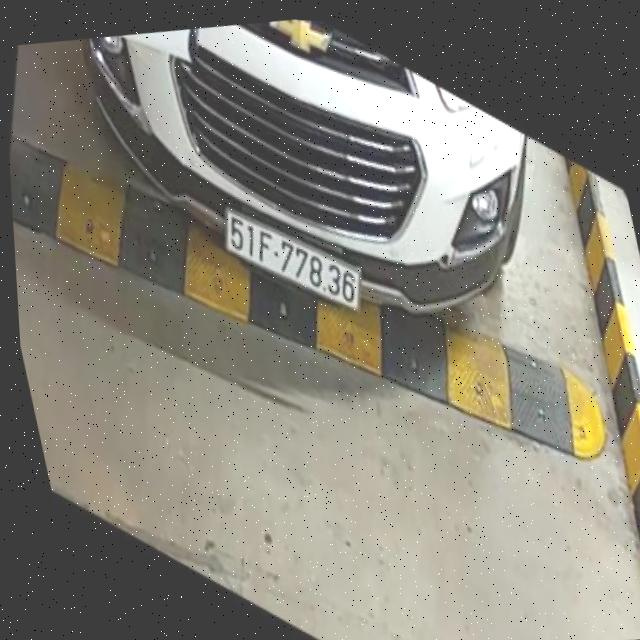car: (68, 5, 572, 373)
plate: (212, 188, 371, 334)
